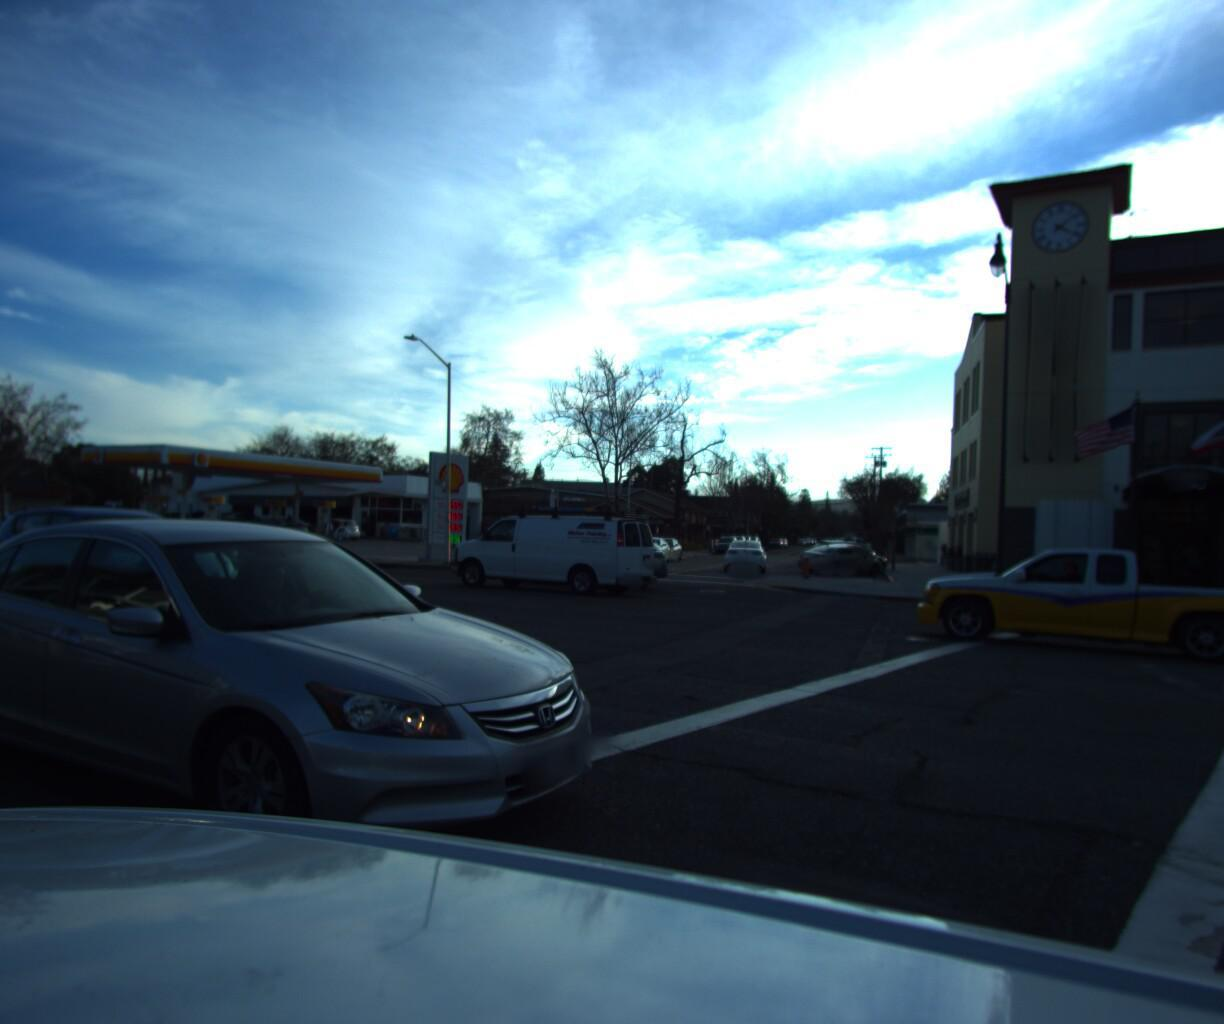car: (0, 510, 657, 950), (900, 538, 1224, 679), (0, 500, 276, 639), (441, 498, 660, 597), (511, 525, 678, 595), (83, 513, 245, 574), (201, 513, 320, 561), (787, 535, 889, 571), (804, 534, 888, 564), (0, 502, 71, 538), (722, 527, 771, 571), (125, 502, 196, 532), (620, 528, 675, 561), (298, 510, 366, 536), (636, 529, 685, 558), (315, 494, 368, 514), (0, 493, 28, 526), (714, 530, 743, 550)
